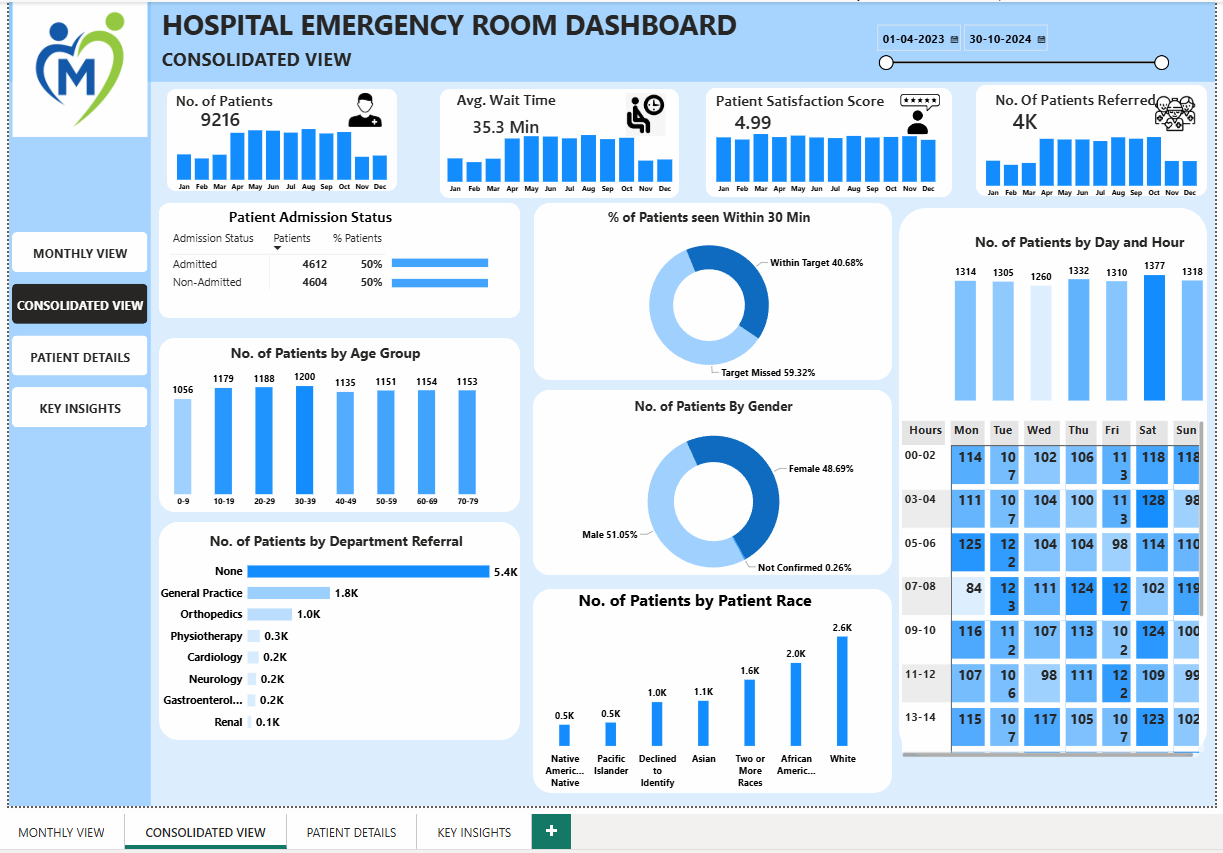

Layout of this report page (visuals, bound fields, positions):
{"tool":"powerbi","page":{"name":"CONSOLIDATED VIEW","canvas":[2100,1400],"ordinal":1},"visuals":[{"type":"shape","box":[261.2,905.5,628.6,379.6],"z":0},{"type":"shape","box":[261.2,350,628.6,200.2],"z":1000},{"type":"shape","box":[275.1,151.5,400.5,177.6],"z":2000},{"type":"shape","box":[0,0,247.3,1400],"z":3000},{"type":"shape","box":[0,0,2100,139.3],"z":4000},{"type":"textbox","box":[261.2,0,1319,100.7],"z":5000},{"type":"textbox","box":[261.2,70.9,434.7,89.6],"z":6000},{"type":"slicer","fields":{"Values":["Date Table.Date"]},"box":[1499.3,29.6,529.4,109.7],"z":7000},{"type":"cardVisual","fields":{"Data":["Hospital ER_Data.No of Patients"]},"box":[292.5,149.8,259.5,130.6],"z":8000},{"type":"columnChart","fields":{"Category":["Date Table.Month Name"],"Y":["Hospital ER_Data.No of Patients"]},"box":[275.1,207.2,400.5,132.3],"z":9000},{"type":"textbox","box":[285.6,151.5,290.8,88.8],"z":10000},{"type":"shape","box":[750.5,151.5,416.2,189.8],"z":11000},{"type":"shape","box":[1213.7,149.8,428.4,189.8],"z":12000},{"type":"shape","box":[1683.8,144.5,402.2,193.3],"z":13000},{"type":"textbox","box":[774.9,149.8,243.8,83.6],"z":14000},{"type":"columnChart","fields":{"Y":["CountNonNull(Hospital ER_Data.Avg Wait Time)"],"Category":["Date Table.Month Name"]},"box":[745.3,217.7,428.4,125.4],"z":15000},{"type":"cardVisual","fields":{"Data":["Min(Hospital ER_Data.Avg Wait Time)"]},"box":[766.2,142.8,247.3,134.1],"z":16000},{"type":"cardVisual","fields":{"Data":["Avg(Hospital ER_Data.Patient Satisfaction Score)"]},"box":[1222.4,153.2,257.7,132.3],"z":17000},{"type":"textbox","box":[1225.9,151.5,358.7,88.8],"z":18000},{"type":"columnChart","fields":{"Y":["Hospital ER_Data.Avg of Satisfaction Score"],"Category":["Date Table.Month Name"]},"box":[1213.7,215.9,417.9,127.1],"z":19000},{"type":"textbox","box":[1706.5,149.8,358.7,87.1],"z":20000},{"type":"cardVisual","fields":{"Data":["Hospital ER_Data.No of Patient Referred"]},"box":[1706.5,155,257.7,132.3],"z":21000},{"type":"columnChart","fields":{"Category":["Date Table.Month Name"],"Y":["Hospital ER_Data.No of Patient Referred"]},"box":[1683.8,221.1,402.2,128.9],"z":22000},{"type":"pivotTable","title":"Patient Admission Status","fields":{"Rows":["Hospital ER_Data.Admission Status"],"Values":["Hospital ER_Data.No of Patients1","Hospital ER_Data.% Patients"]},"box":[275.1,358.7,499.8,149.8],"z":23000},{"type":"barChart","fields":{"Category":["Hospital ER_Data.Admission Status"],"Y":["Hospital ER_Data.No of Patients"]},"box":[661.7,416.2,228.1,106.2],"z":24000},{"type":"shape","box":[261.2,585.1,628.6,303],"z":25000},{"type":"clusteredColumnChart","title":"No. of Patients by Age Group","fields":{"Category":["Hospital ER_Data.Age Group"],"Y":["Hospital ER_Data.No of Patients"]},"box":[254.2,593.8,593.8,294.3],"z":26000},{"type":"clusteredBarChart","title":"No. of Patients by Department Referral","fields":{"Y":["Hospital ER_Data.No of Patients"],"Category":["Hospital ER_Data.Department Referral"]},"box":[247.3,921.1,644.3,363.9],"z":27000},{"type":"shape","box":[914.2,350,623.4,308.2],"z":28000},{"type":"shape","box":[912.4,675.6,625.1,322.1],"z":29000},{"type":"donutChart","title":"% of Patients seen Within 30 Min","fields":{"Category":["Hospital ER_Data.WaitTime"],"Y":["Hospital ER_Data.No of Patients"]},"box":[914.2,358.7,609.5,308.2],"z":30000},{"type":"donutChart","title":"No. of Patients By Gender","fields":{"Y":["Hospital ER_Data.No of Patients"],"Category":["Hospital ER_Data.Patient Gender"]},"box":[868.9,687.8,715.7,334.3],"z":31000},{"type":"shape","box":[912.4,1022.1,625.1,355.2],"z":32000},{"type":"columnChart","title":"No. of Patients by Patient Race","fields":{"Category":["Hospital ER_Data.Patient Race"],"Y":["Hospital ER_Data.No of Patients"]},"box":[889.8,1022.1,609.5,355.2],"z":33000},{"type":"shape","box":[1549.8,358.7,536.3,954.2],"z":34000},{"type":"pivotTable","fields":{"Rows":["Hospital ER_Data.Waittime Interval"],"Columns":["Date Table.Day Name"],"Values":["Hospital ER_Data.No of Patients"]},"box":[1549.8,724.4,536.3,595.5],"z":35000},{"type":"columnChart","title":"No. of Patients by Day and Hour","fields":{"Category":["Date Table.Day Name"],"Y":["Hospital ER_Data.No of Patients"]},"box":[1642,400.5,444,299.5],"z":36000},{"type":"pageNavigator","box":[5.2,400.5,236.8,341.3],"z":37000},{"type":"image","box":[564.2,158.5,111.4,59.2],"z":37001},{"type":"image","box":[1050,158.5,116.7,74.9],"z":37002},{"type":"image","box":[1541,156.7,90.5,76.6],"z":37003},{"type":"image","box":[1995.5,146.3,69.7,95.8],"z":37004},{"type":"image","box":[5.2,0,236.8,235.1],"z":37005}]}

Visuals, with their boxes on the page's 2100x1400 design canvas (x1, y1, x2, y2). These are canvas units, not pixel positions in the 1223x853 screenshot, which may show the page scaled, cropped or inside an application window:
shape: pyautogui.locateOnScreen(261, 906, 890, 1285)
shape: pyautogui.locateOnScreen(261, 350, 890, 550)
shape: pyautogui.locateOnScreen(275, 152, 676, 329)
shape: pyautogui.locateOnScreen(0, 0, 247, 1400)
shape: pyautogui.locateOnScreen(0, 0, 2100, 139)
textbox: pyautogui.locateOnScreen(261, 0, 1580, 101)
textbox: pyautogui.locateOnScreen(261, 71, 696, 160)
slicer - Date Table.Date: pyautogui.locateOnScreen(1499, 30, 2029, 139)
cardVisual - Hospital ER_Data.No of Patients: pyautogui.locateOnScreen(292, 150, 552, 280)
columnChart - Date Table.Month Name x Hospital ER_Data.No of Patients: pyautogui.locateOnScreen(275, 207, 676, 340)
textbox: pyautogui.locateOnScreen(286, 152, 576, 240)
shape: pyautogui.locateOnScreen(750, 152, 1167, 341)
shape: pyautogui.locateOnScreen(1214, 150, 1642, 340)
shape: pyautogui.locateOnScreen(1684, 144, 2086, 338)
textbox: pyautogui.locateOnScreen(775, 150, 1019, 233)
columnChart - CountNonNull(Hospital ER_Data.Avg Wait Time) x Date Table.Month Name: pyautogui.locateOnScreen(745, 218, 1174, 343)
cardVisual - Min(Hospital ER_Data.Avg Wait Time): pyautogui.locateOnScreen(766, 143, 1014, 277)
cardVisual - Avg(Hospital ER_Data.Patient Satisfaction Score): pyautogui.locateOnScreen(1222, 153, 1480, 286)
textbox: pyautogui.locateOnScreen(1226, 152, 1585, 240)
columnChart - Hospital ER_Data.Avg of Satisfaction Score x Date Table.Month Name: pyautogui.locateOnScreen(1214, 216, 1632, 343)
textbox: pyautogui.locateOnScreen(1706, 150, 2065, 237)
cardVisual - Hospital ER_Data.No of Patient Referred: pyautogui.locateOnScreen(1706, 155, 1964, 287)
columnChart - Date Table.Month Name x Hospital ER_Data.No of Patient Referred: pyautogui.locateOnScreen(1684, 221, 2086, 350)
"Patient Admission Status" pivotTable: pyautogui.locateOnScreen(275, 359, 775, 508)
barChart - Hospital ER_Data.Admission Status x Hospital ER_Data.No of Patients: pyautogui.locateOnScreen(662, 416, 890, 522)
shape: pyautogui.locateOnScreen(261, 585, 890, 888)
"No. of Patients by Age Group" clusteredColumnChart: pyautogui.locateOnScreen(254, 594, 848, 888)
"No. of Patients by Department Referral" clusteredBarChart: pyautogui.locateOnScreen(247, 921, 892, 1285)
shape: pyautogui.locateOnScreen(914, 350, 1538, 658)
shape: pyautogui.locateOnScreen(912, 676, 1538, 998)
"% of Patients seen Within 30 Min" donutChart: pyautogui.locateOnScreen(914, 359, 1524, 667)
"No. of Patients By Gender" donutChart: pyautogui.locateOnScreen(869, 688, 1585, 1022)
shape: pyautogui.locateOnScreen(912, 1022, 1538, 1377)
"No. of Patients by Patient Race" columnChart: pyautogui.locateOnScreen(890, 1022, 1499, 1377)
shape: pyautogui.locateOnScreen(1550, 359, 2086, 1313)
pivotTable - Hospital ER_Data.Waittime Interval x Date Table.Day Name: pyautogui.locateOnScreen(1550, 724, 2086, 1320)
"No. of Patients by Day and Hour" columnChart: pyautogui.locateOnScreen(1642, 400, 2086, 700)
pageNavigator: pyautogui.locateOnScreen(5, 400, 242, 742)
image: pyautogui.locateOnScreen(564, 158, 676, 218)
image: pyautogui.locateOnScreen(1050, 158, 1167, 233)
image: pyautogui.locateOnScreen(1541, 157, 1632, 233)
image: pyautogui.locateOnScreen(1996, 146, 2065, 242)
image: pyautogui.locateOnScreen(5, 0, 242, 235)
